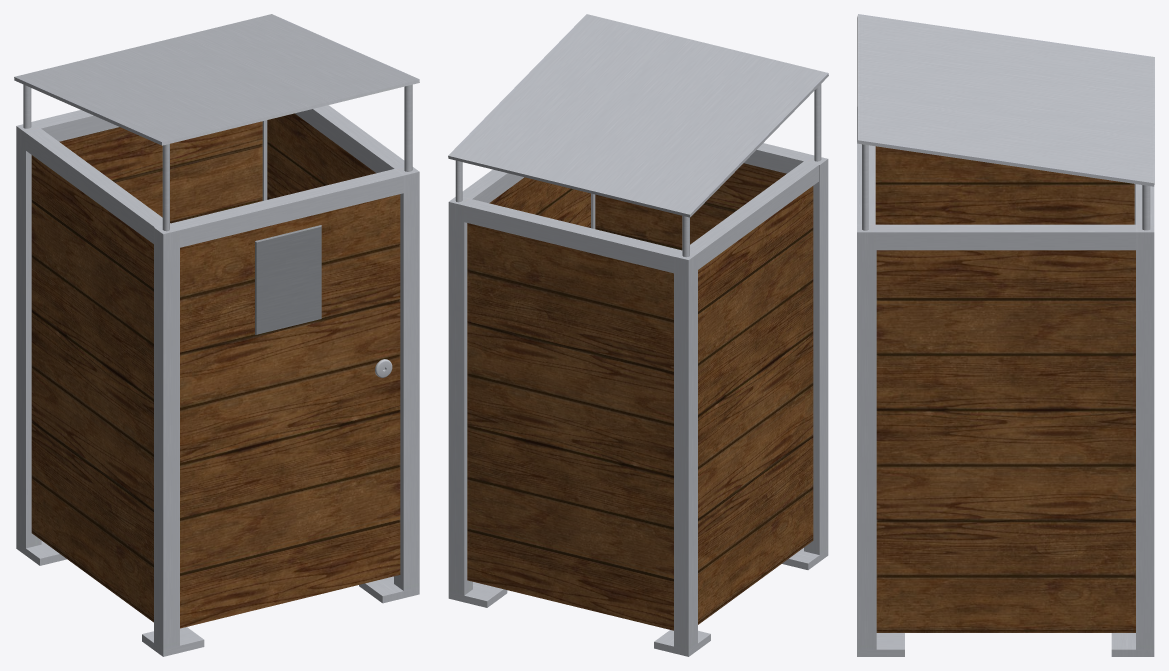
The model's file is poubelle-2.glb.
3 views of the same model, side by side, from view 1: azimuth 30°, elevation 25°; view 2: azimuth 150°, elevation 25°; view 3: azimuth 270°, elevation 25° (orthographic). The views are drawn at different scales.
Visible parts, largest first — view 1: FNBN0301_Litter_bin_Material #567_0; view 2: FNBN0301_Litter_bin_Material #567_0; view 3: FNBN0301_Litter_bin_Material #567_0.
Boxes of the visible parts, bbox=[...] form: FNBN0301_Litter_bin_Material #567_0: bbox=[14, 14, 419, 656]; FNBN0301_Litter_bin_Material #567_0: bbox=[448, 14, 828, 656]; FNBN0301_Litter_bin_Material #567_0: bbox=[857, 14, 1154, 656].
Bounding box in the file's own units: 0.6288 × 1.2 × 0.6263.
1 material, 1 textured.
